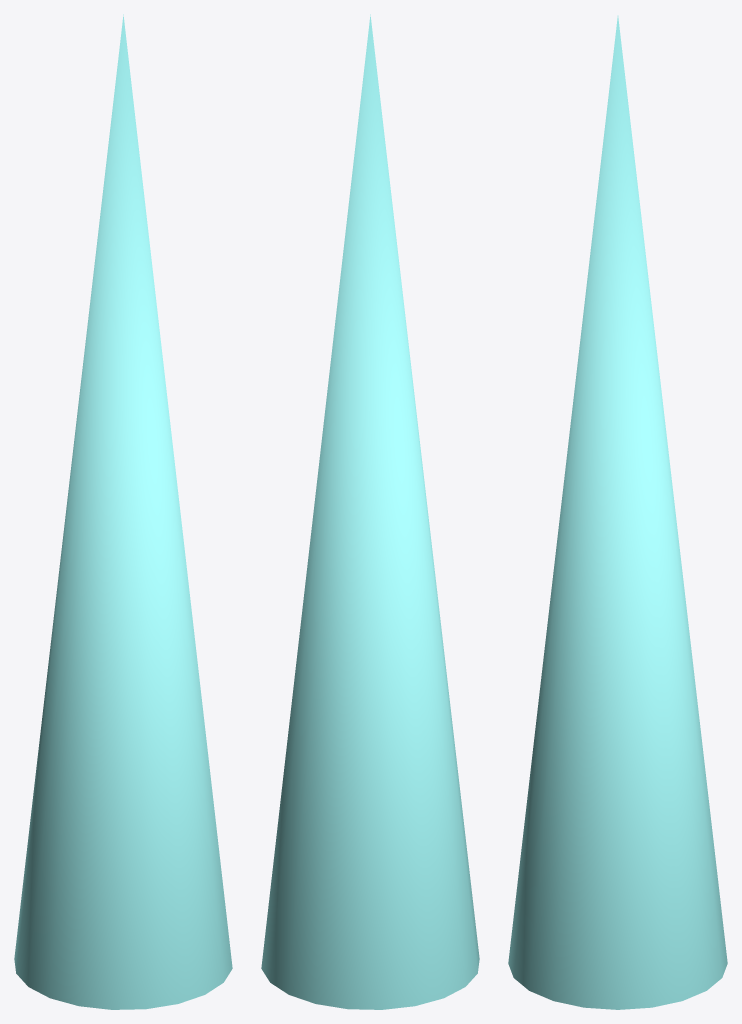
The model's file is Proj.fbx.
3 renders of one model, left to right at view 1: azimuth 30°, elevation 25°; view 2: azimuth 150°, elevation 25°; view 3: azimuth 270°, elevation 25°, orthographic.
Visible parts, largest first — view 1: pCone1; view 2: pCone1; view 3: pCone1.
Part boxes in pixels (x1,y1,x2,y2): pCone1: (14,14,232,1009); pCone1: (261,14,479,1009); pCone1: (508,15,727,1009).
Bounding box in the file's own units: 1.05 × 5.02 × 1.05.
